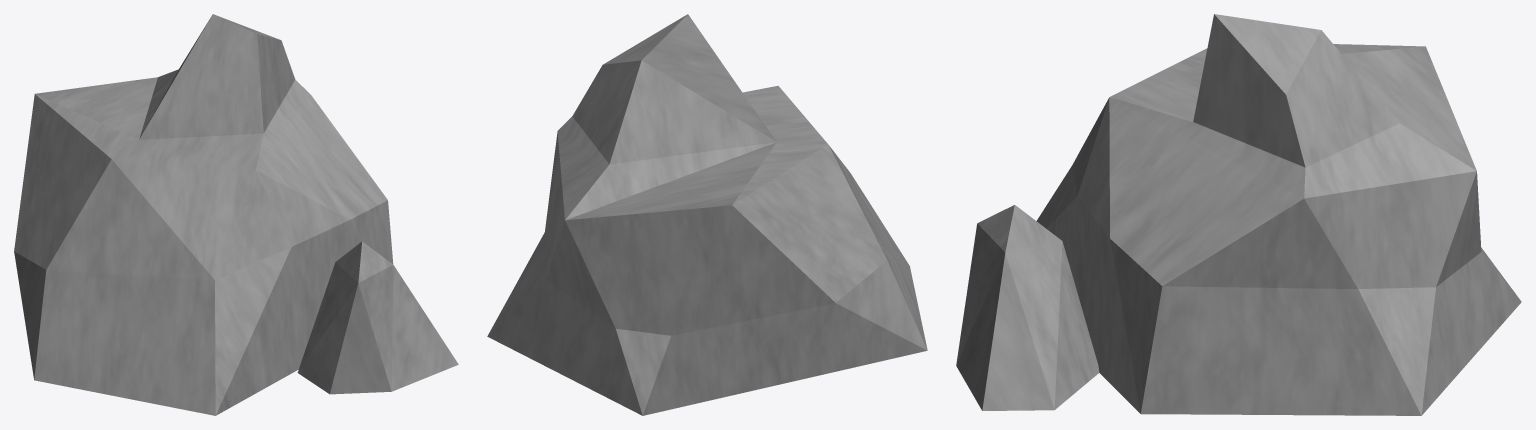
File: real_stone_1.fbx
3 views of the same model, side by side, from view 1: azimuth 30°, elevation 25°; view 2: azimuth 150°, elevation 25°; view 3: azimuth 270°, elevation 25° (orthographic). The views are drawn at different scales.
Visible parts, largest first — view 1: Stone_4; view 2: Stone_4; view 3: Stone_4.
Boxes of the visible parts, bbox=[...] form: Stone_4: bbox=[14, 14, 458, 415]; Stone_4: bbox=[487, 14, 927, 415]; Stone_4: bbox=[956, 14, 1521, 415].
Bounding box in the file's own units: 312 × 247 × 376.
Materials: 1 (1 with a texture image).
